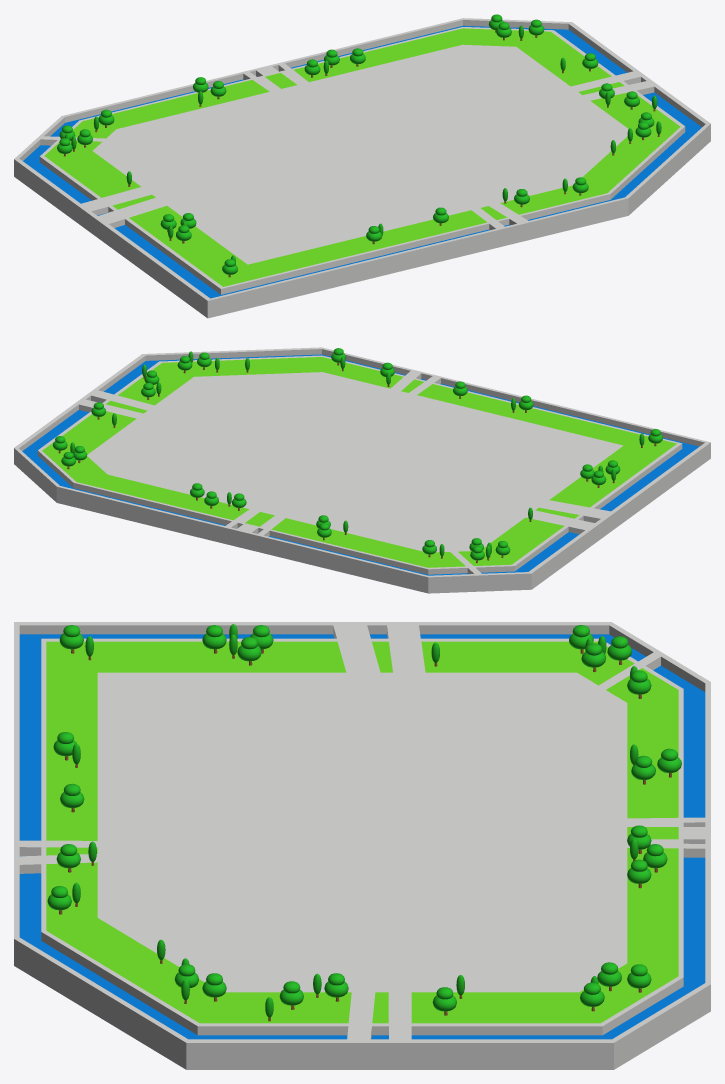
Rendered from core.fbx.
3 views of the same model, one above another, from view 1: azimuth 30°, elevation 25°; view 2: azimuth 150°, elevation 25°; view 3: azimuth 270°, elevation 25° (orthographic). The views are drawn at different scales.
Parts seen in each view (by area): view 1: Plane; view 2: Plane; view 3: Plane.
Boxes of the visible parts, x1,y1,x2,y2 form: Plane: [14, 18, 710, 318]; Plane: [14, 347, 710, 593]; Plane: [14, 622, 710, 1069].
Bounding box in the file's own units: 10000 × 597 × 7000.
